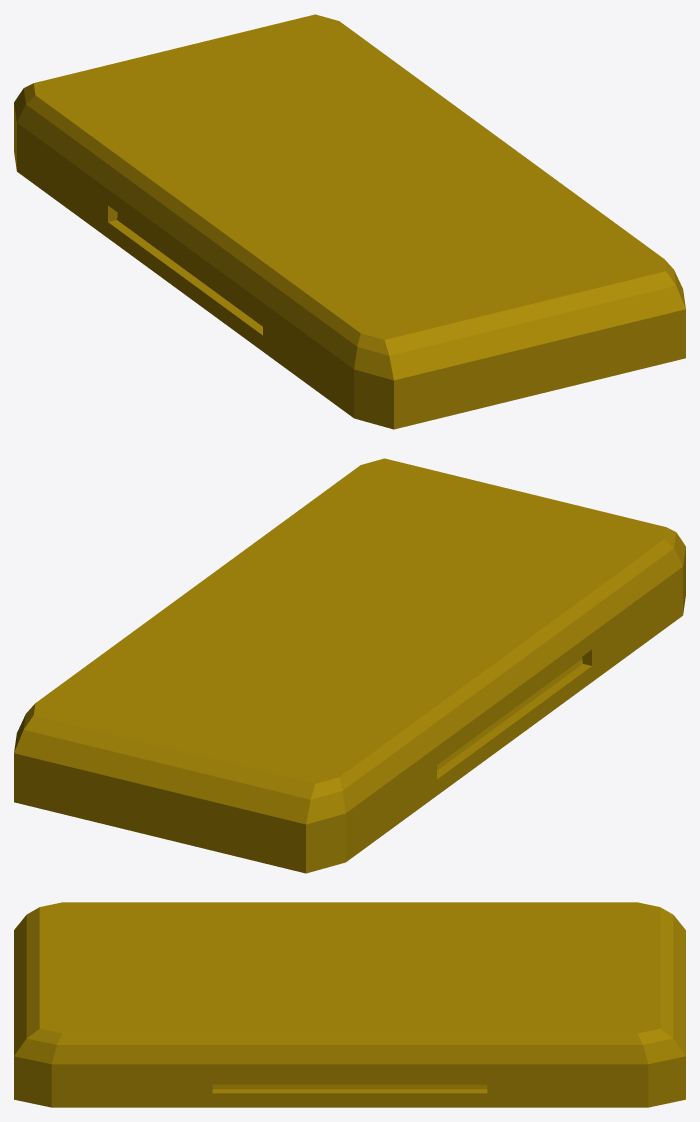
File: SM_Crate_Nuclear_Cover.fbx
3 views of the same model, one above another, from view 1: azimuth 30°, elevation 25°; view 2: azimuth 150°, elevation 25°; view 3: azimuth 270°, elevation 25° (orthographic). The views are drawn at different scales.
Parts seen in each view (by area): view 1: SM_Top.004; view 2: SM_Top.004; view 3: SM_Top.004.
Part boxes in pixels (box(x1,y1,x2,y2)): SM_Top.004: box(14, 14, 685, 429); SM_Top.004: box(14, 458, 685, 873); SM_Top.004: box(14, 902, 685, 1107).
Size of the model in its own units: 1 by 0.2257 by 2.
